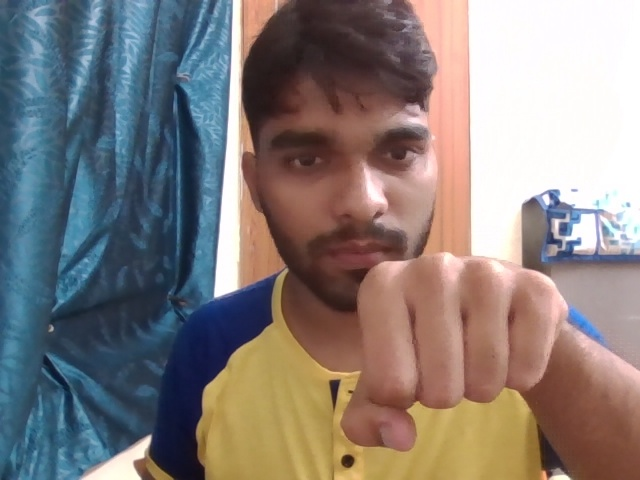Yes: (338, 235, 576, 460)
